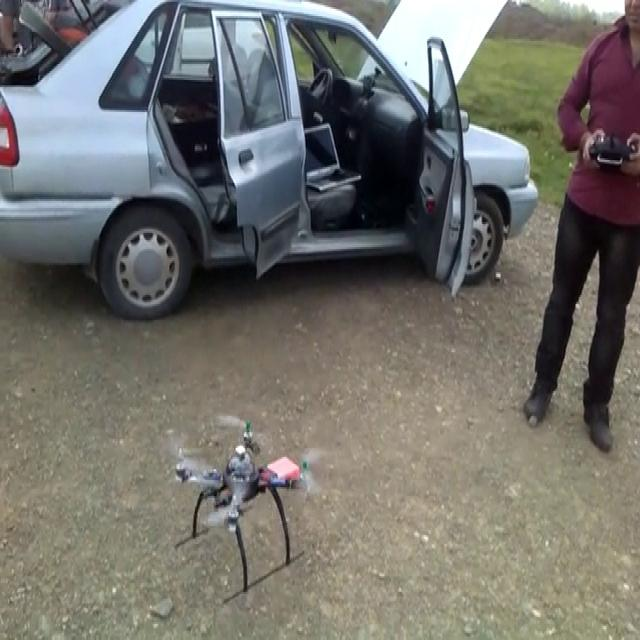drone: (156, 405, 329, 601)
